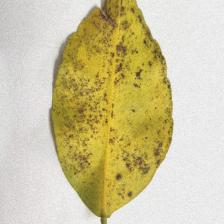canker: (52, 16, 182, 171)
